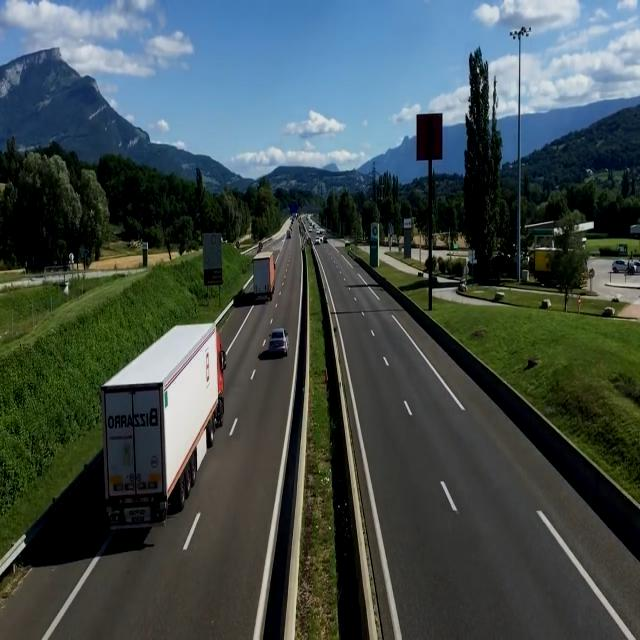Car: (267, 327, 289, 356), (611, 260, 638, 274), (314, 237, 320, 245)
Truck: (97, 319, 226, 528), (530, 247, 582, 282), (250, 250, 277, 303)
